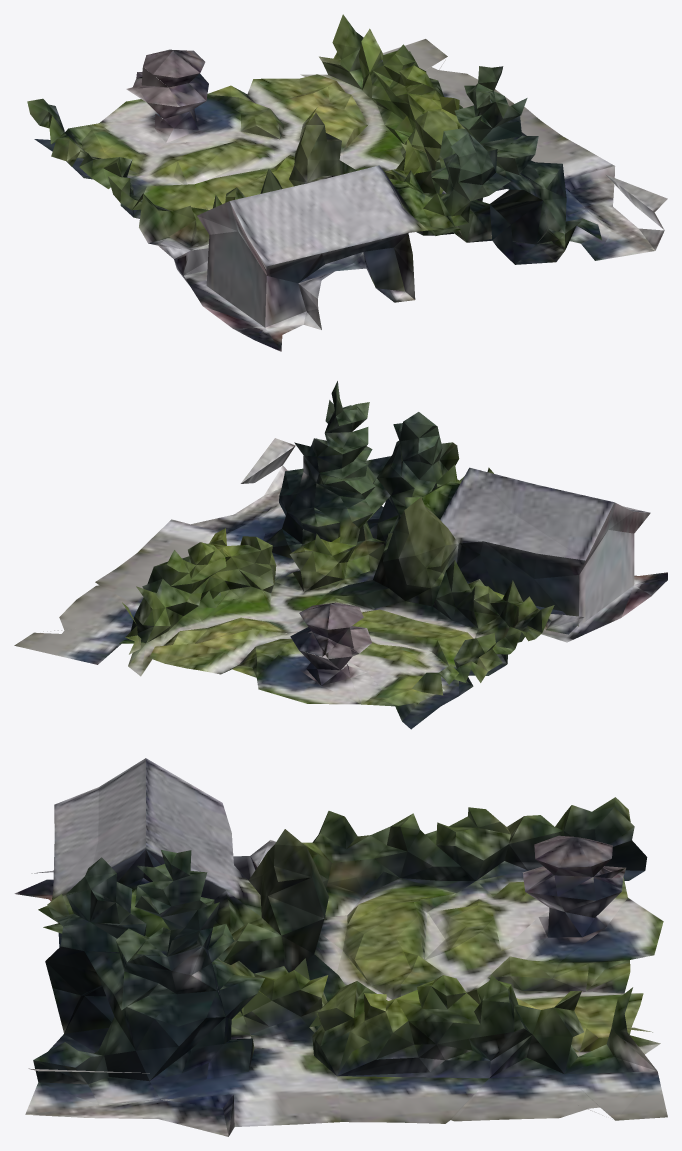
Rendered from Tile_+002_+004_L17_00.glb.
3 renders of one model, top to bottom at view 1: azimuth 30°, elevation 25°; view 2: azimuth 150°, elevation 25°; view 3: azimuth 270°, elevation 25°, orthographic. The views are drawn at different scales.
Bounding box in the file's own units: 57.01 × 21.32 × 59.27.
1 material, 1 textured.
